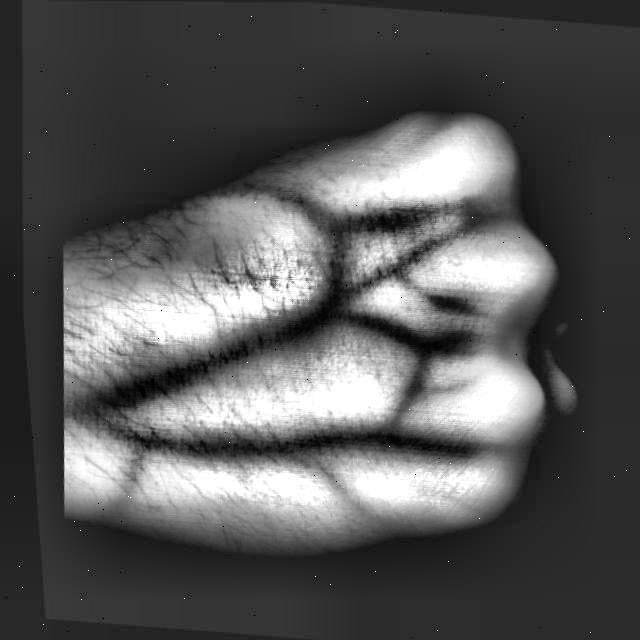Vein: (108, 305, 328, 413)
